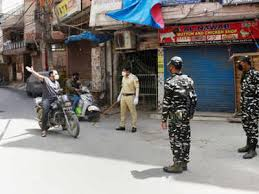mask: (167, 57, 181, 73), (47, 68, 59, 81), (119, 65, 129, 75), (71, 71, 79, 81)
